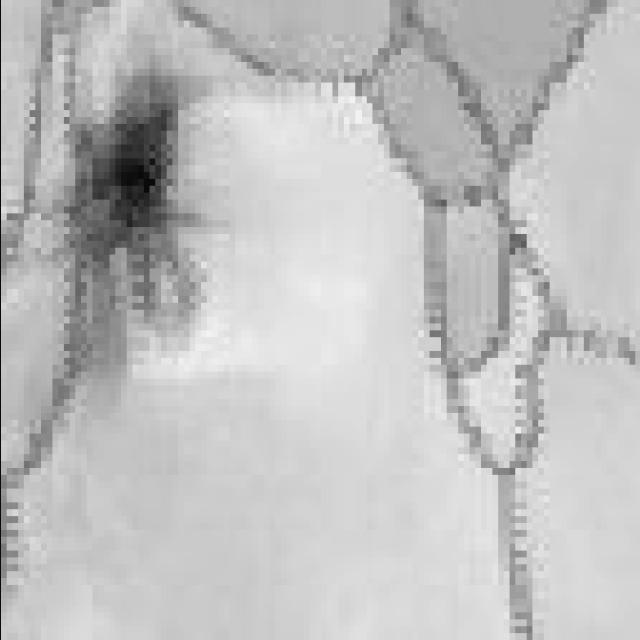good_void: (45, 72, 211, 383)
